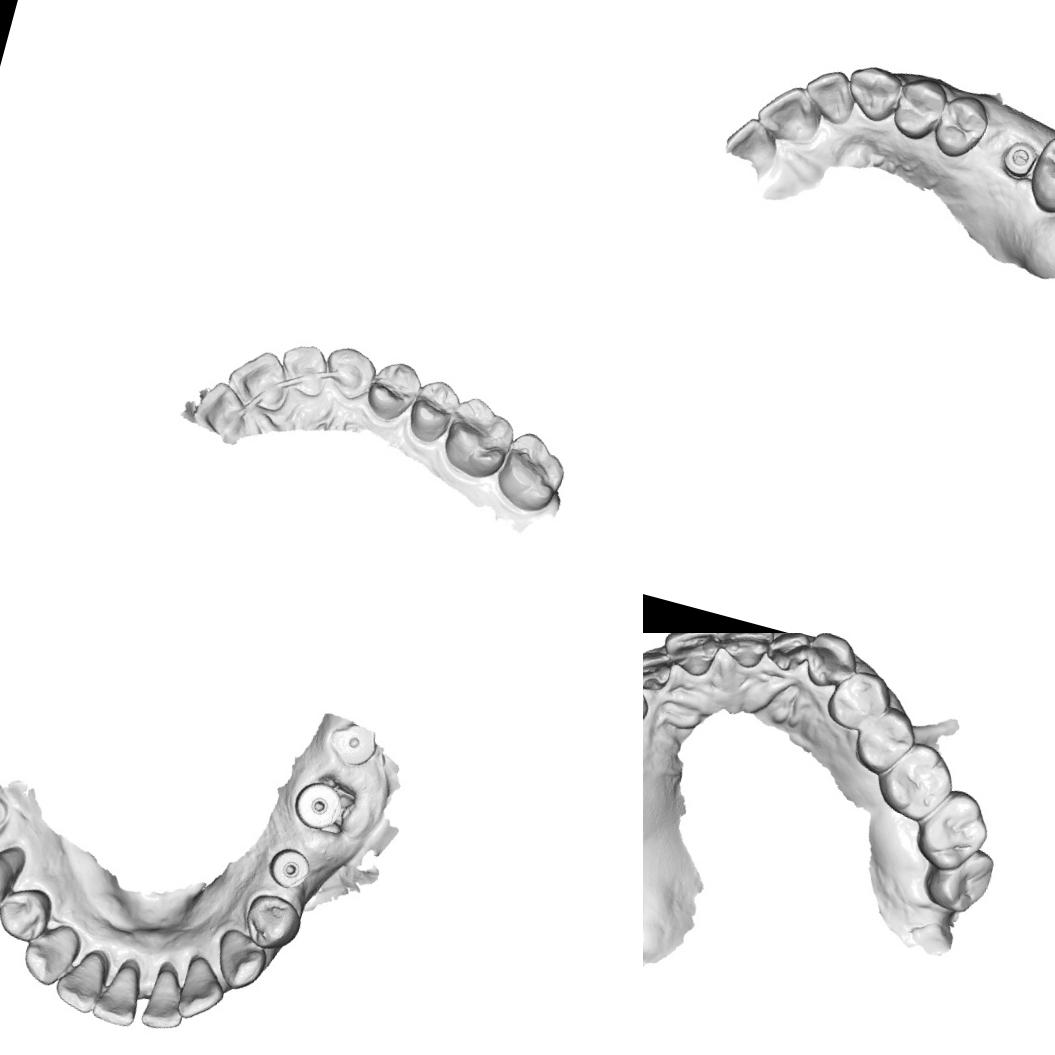canine: (15, 916, 84, 992), (206, 924, 274, 995), (838, 59, 906, 126), (316, 340, 381, 405), (799, 633, 863, 694)
implant: (320, 714, 383, 774), (288, 776, 347, 836), (262, 842, 316, 894), (999, 136, 1042, 184), (0, 792, 13, 830)
incisor: (750, 74, 826, 152), (222, 341, 298, 414), (188, 376, 253, 446), (170, 952, 230, 1026), (796, 62, 862, 128), (136, 965, 194, 1036), (87, 958, 145, 1028), (272, 336, 334, 400), (50, 951, 109, 1015), (656, 633, 723, 679), (707, 633, 778, 672), (761, 633, 813, 676), (643, 641, 675, 693)
molar: (907, 780, 997, 878), (870, 734, 962, 828), (488, 426, 572, 518), (437, 392, 521, 484), (918, 836, 999, 918), (1023, 127, 1055, 224)
premolar: (848, 699, 923, 782), (820, 662, 897, 739), (928, 88, 994, 164), (237, 888, 307, 958), (402, 374, 465, 448), (888, 70, 950, 145), (362, 355, 426, 427), (0, 878, 57, 947), (0, 846, 18, 920)
